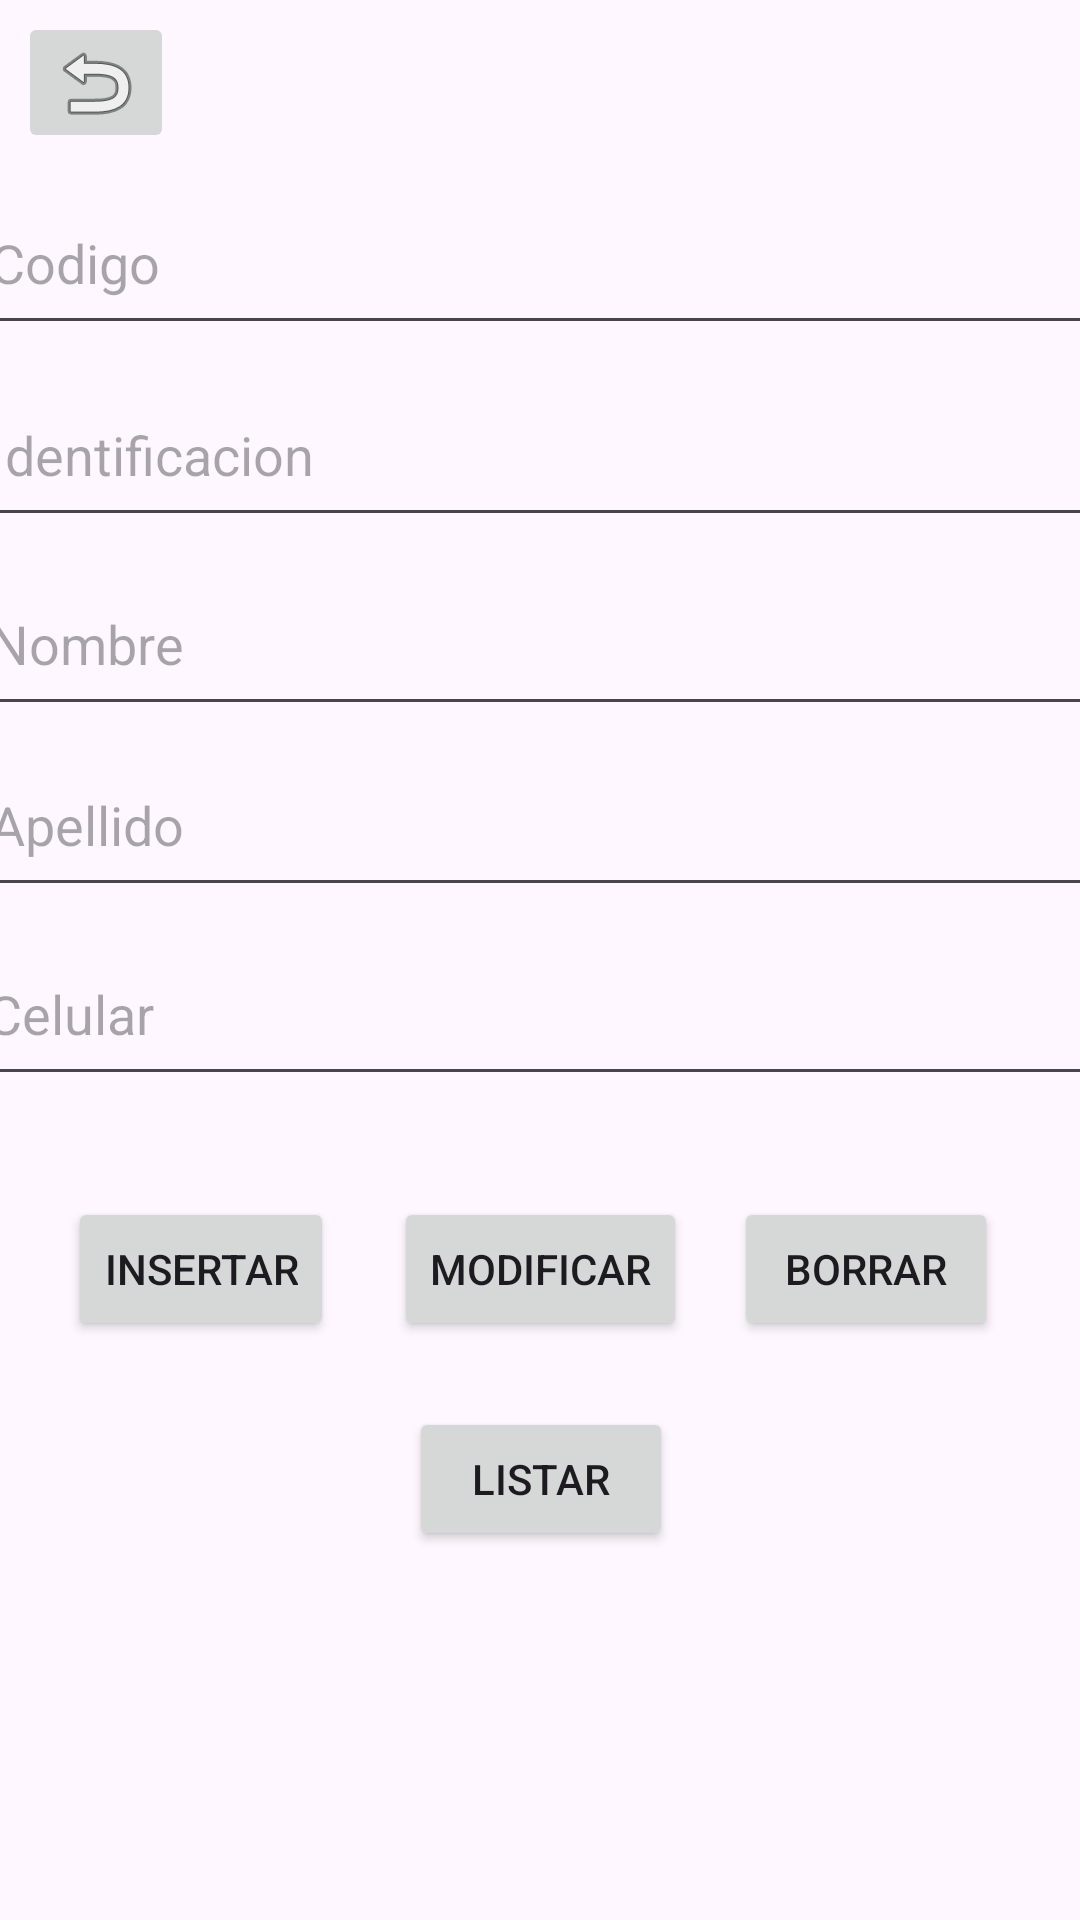

Icons on this 1080px×1920px Android screen, each with its box as (x1, y1, x2, y2):
revert: (30, 30, 162, 135)
